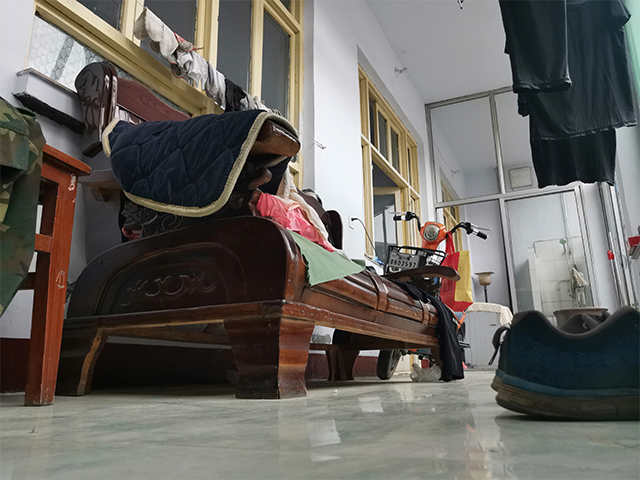stool: (55, 57, 466, 400)
